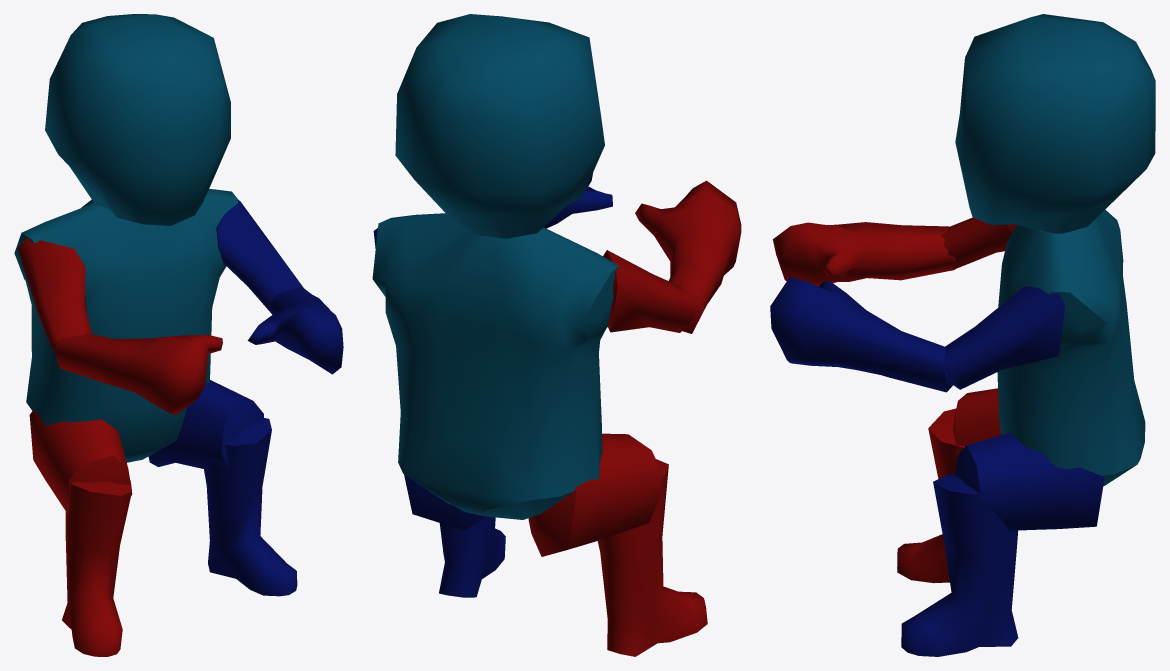
The model's file is A_IdleVehicle.FBX.
The picture shows the model from 3 angles, left to right: view 1: azimuth 30°, elevation 25°; view 2: azimuth 150°, elevation 25°; view 3: azimuth 270°, elevation 25°; orthographic projection. The views are drawn at different scales.
Visible parts, largest first — view 1: Chara_Head, Chara_Body, Chara_FootL, Chara_FootR, Chara_HandR, Chara_LegR, Chara_ArmR, Chara_LegL, Chara_HandL, Chara_ArmL; view 2: Chara_Body, Chara_Head, Chara_FootR, Chara_LegR, Chara_HandR, Chara_ArmR, Chara_FootL, Chara_LegL, Chara_HandL; view 3: Chara_Head, Chara_Body, Chara_FootL, Chara_HandL, Chara_LegL, Chara_HandR, Chara_ArmL, Chara_FootR, Chara_ArmR, Chara_LegR.
Part boxes in pixels (x1=…): Chara_Head: x1=45, y1=14, x2=230, y2=225; Chara_Body: x1=14, y1=189, x2=238, y2=462; Chara_FootL: x1=204, y1=418, x2=297, y2=596; Chara_FootR: x1=62, y1=480, x2=131, y2=656; Chara_HandR: x1=53, y1=333, x2=222, y2=415; Chara_LegR: x1=29, y1=410, x2=132, y2=514; Chara_ArmR: x1=17, y1=237, x2=91, y2=350; Chara_LegL: x1=148, y1=380, x2=263, y2=469; Chara_HandL: x1=247, y1=286, x2=343, y2=374; Chara_ArmL: x1=216, y1=200, x2=303, y2=312; Chara_Body: x1=372, y1=213, x2=618, y2=519; Chara_Head: x1=395, y1=14, x2=604, y2=238; Chara_FootR: x1=597, y1=459, x2=707, y2=656; Chara_LegR: x1=528, y1=433, x2=662, y2=556; Chara_HandR: x1=635, y1=180, x2=741, y2=333; Chara_ArmR: x1=603, y1=250, x2=700, y2=332; Chara_FootL: x1=439, y1=516, x2=505, y2=597; Chara_LegL: x1=404, y1=474, x2=485, y2=530; Chara_HandL: x1=544, y1=173, x2=612, y2=228; Chara_Head: x1=955, y1=14, x2=1155, y2=233; Chara_Body: x1=997, y1=209, x2=1145, y2=485; Chara_FootL: x1=901, y1=474, x2=1018, y2=656; Chara_HandL: x1=770, y1=277, x2=952, y2=392; Chara_LegL: x1=954, y1=433, x2=1104, y2=530; Chara_HandR: x1=773, y1=222, x2=955, y2=286; Chara_ArmL: x1=944, y1=286, x2=1065, y2=389; Chara_FootR: x1=897, y1=408, x2=965, y2=583; Chara_ArmR: x1=941, y1=217, x2=1016, y2=268; Chara_LegR: x1=952, y1=388, x2=1001, y2=457.
Size of the model in its own units: 78.48 by 164 by 96.65.
